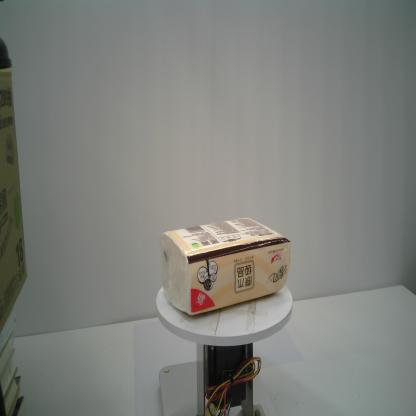Tissue: (160, 217, 292, 316)
